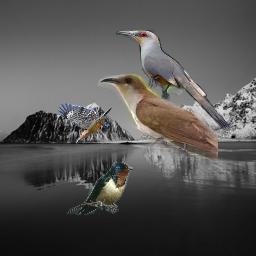Cuckoo: (116, 29, 234, 133), (97, 74, 218, 163)
Swallow: (66, 162, 133, 215)
Woodpecker: (56, 102, 112, 144)
